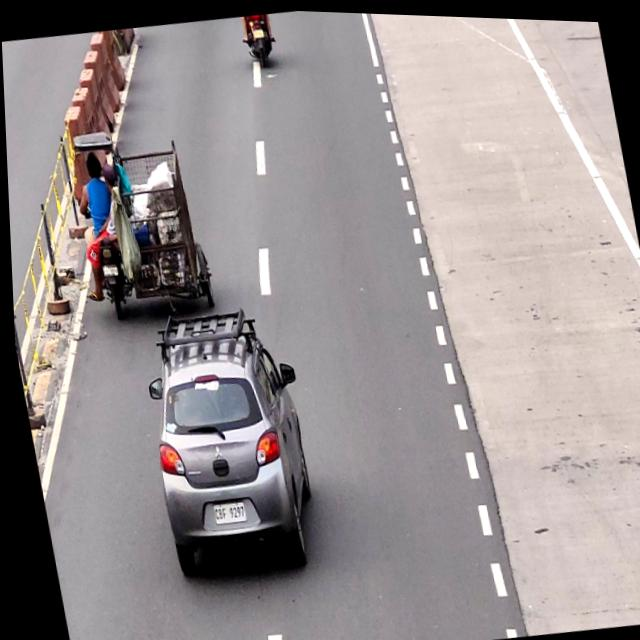Car: (133, 308, 319, 574)
License-Plate: (207, 500, 243, 524)
Tricycle: (65, 115, 217, 323)
